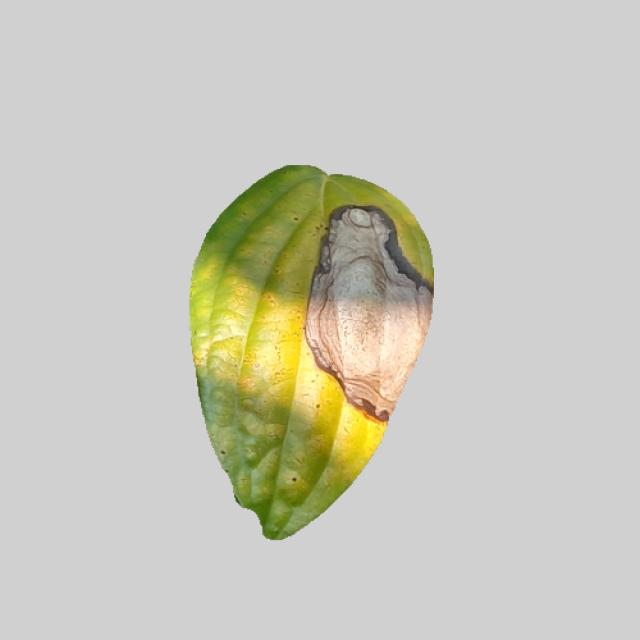leaf-blight: (178, 161, 445, 540)
